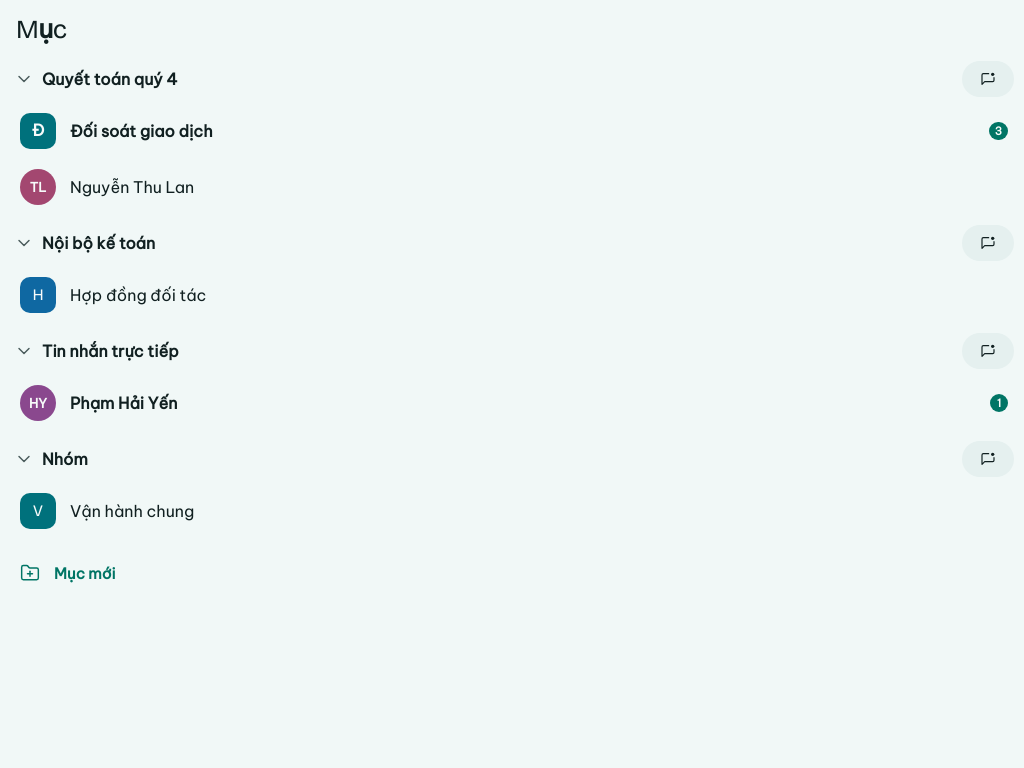
Test case: long press on a conversation › moves the conversation into the chosen section and closes the sheet
Expected: the list named "Quyết toán quý 4" is shown, [0,103,1023,215]
Press the mouse on the list item "V Vận hành chung" at (107, 511), box [20,493,194,529]
Wait 401 ms
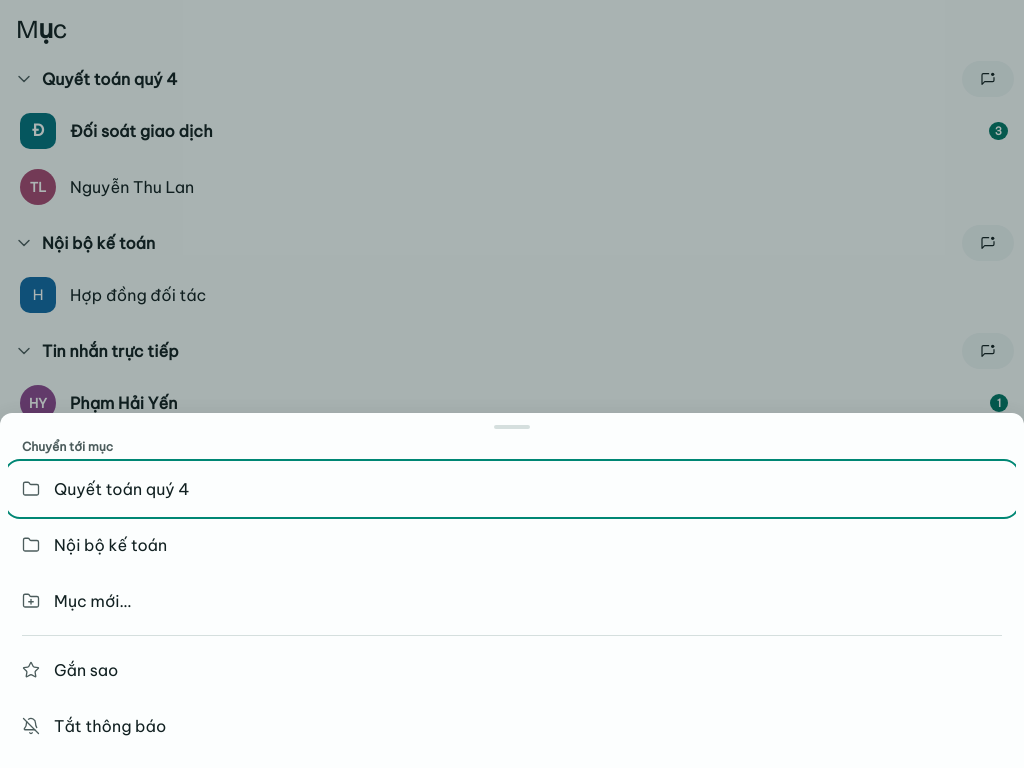
Click the radio button labelled "Nội bộ kế toán".
click(111, 545)  # box [8,519,1016,571]
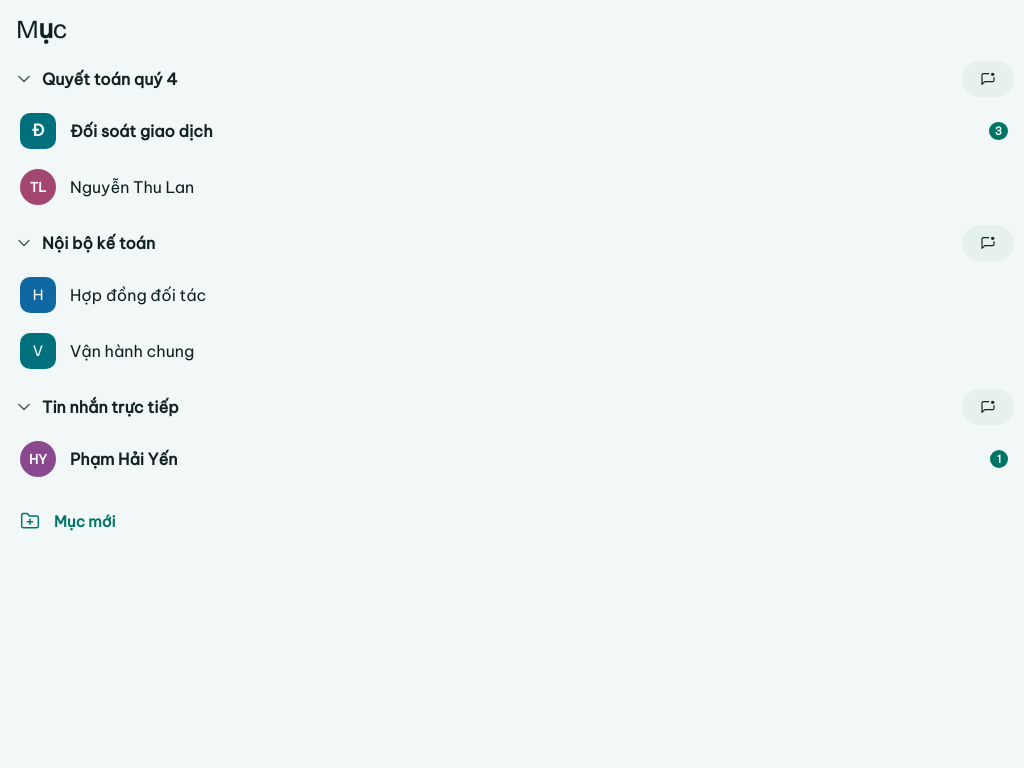
Expected: the text "Vận hành chung" is shown, [70,341,194,361]
Now the dialog is gone
